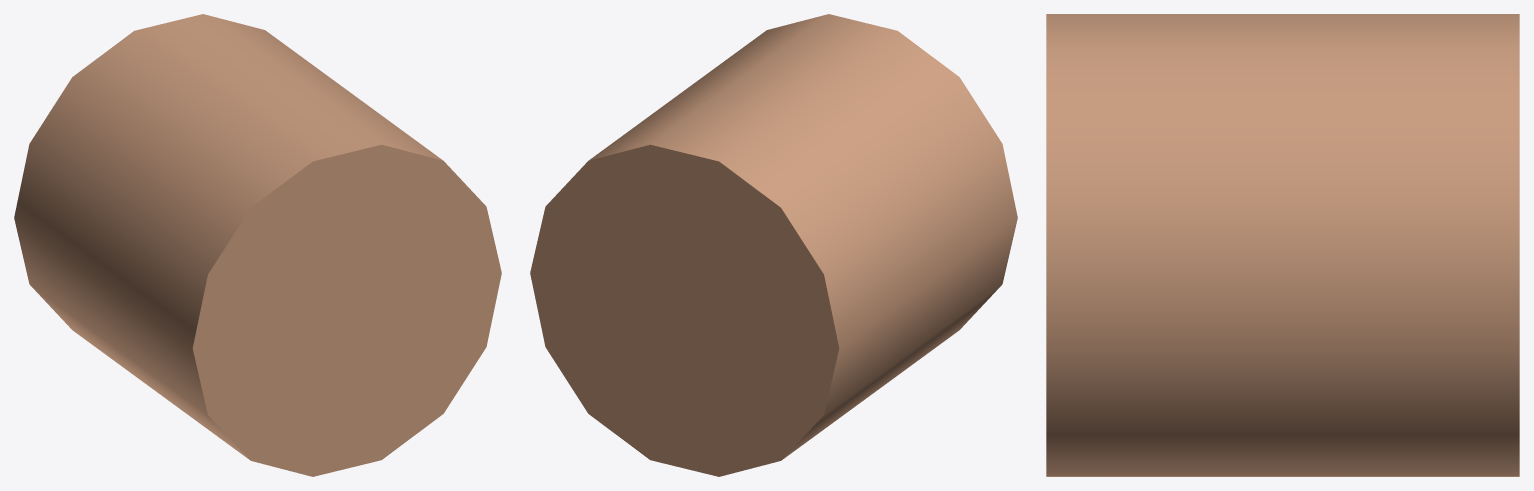
File: limb.dae
3 renders of one model, left to right at view 1: azimuth 30°, elevation 25°; view 2: azimuth 150°, elevation 25°; view 3: azimuth 270°, elevation 25°, orthographic. The views are drawn at different scales.
Parts seen in each view (by area): view 1: limb; view 2: limb; view 3: limb.
Part boxes in pixels (<box>): limb: <box>14,14,501,476</box>; limb: <box>530,14,1017,476</box>; limb: <box>1046,14,1519,476</box>.
Size of the model in its own units: 1 by 1 by 0.9749.
